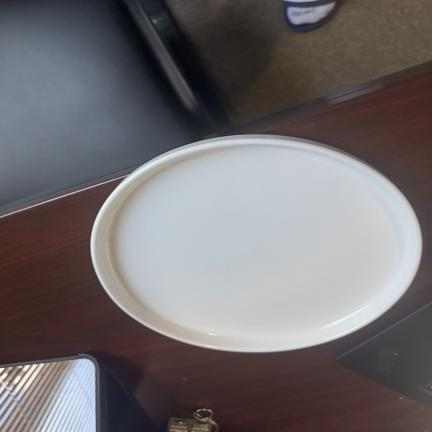plate: (92, 136, 421, 351)
